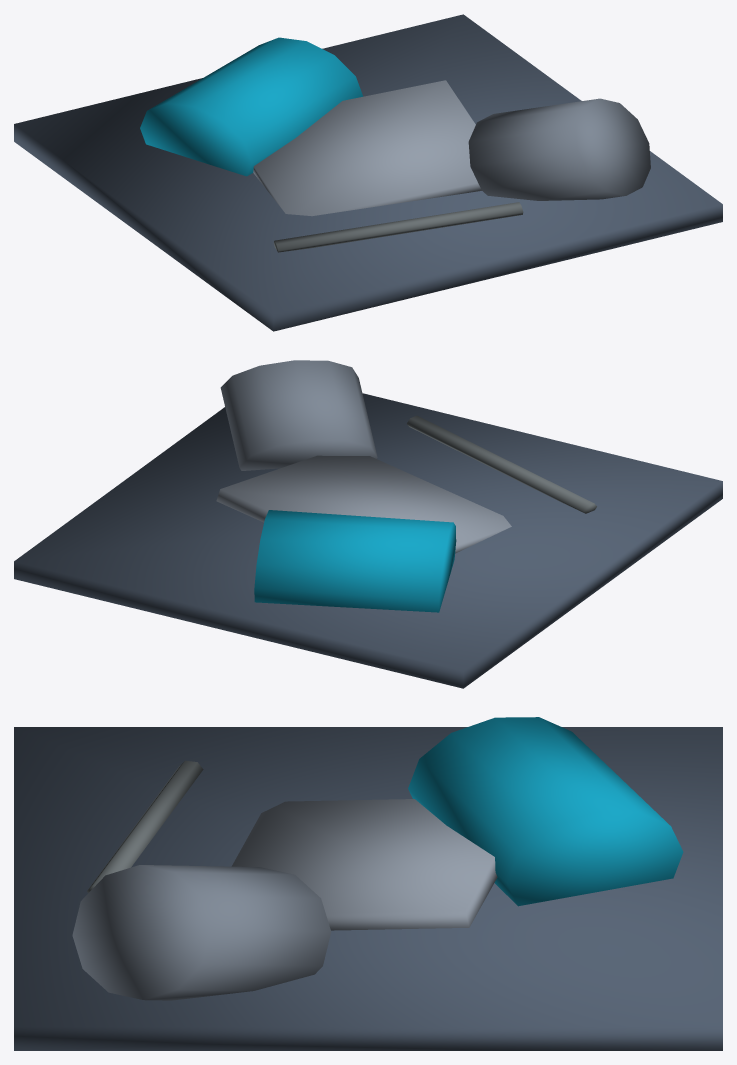
The model's file is substation-wreck.glb.
3 renders of one model, top to bottom at view 1: azimuth 30°, elevation 25°; view 2: azimuth 150°, elevation 25°; view 3: azimuth 270°, elevation 25°, orthographic. The views are drawn at different scales.
Visible parts, largest first — view 1: world; view 2: world; view 3: world.
Part boxes in pixels (box(x1,y1,x2,y2)): world: box(14, 14, 722, 331); world: box(14, 360, 722, 688); world: box(14, 717, 722, 1050).
Size of the model in its own units: 10 by 2.2 by 10.
